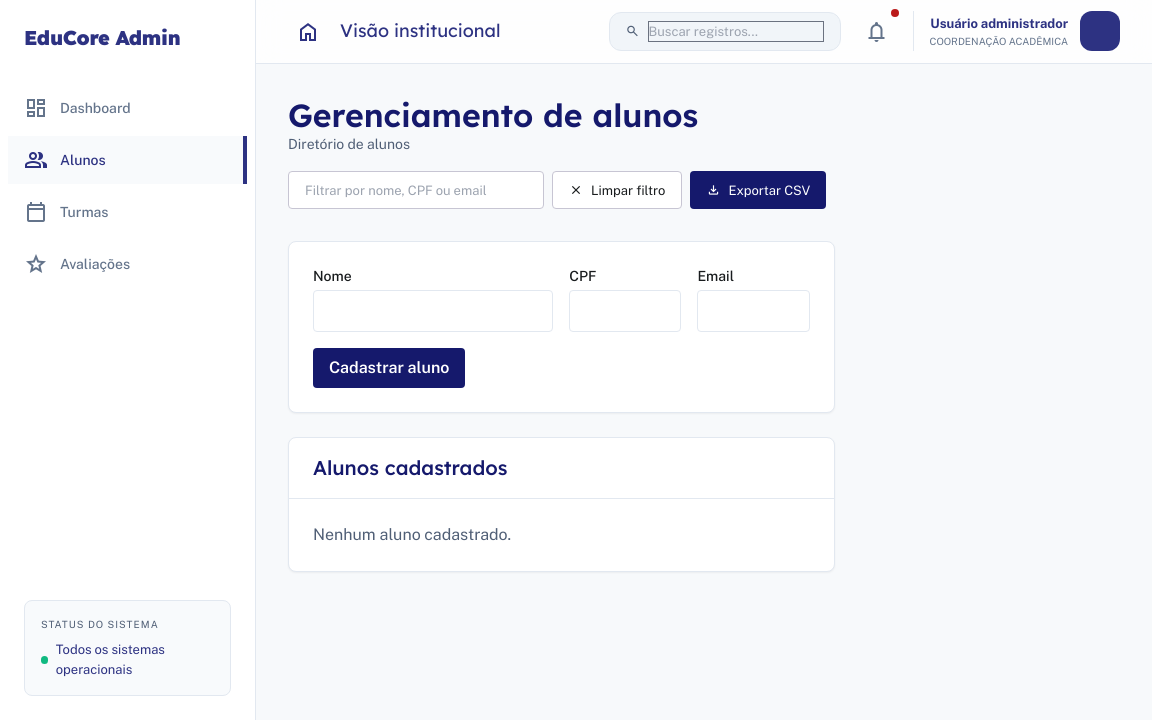
Test: Tela de alunos › cadastra aluno com sucesso e atualiza lista
Type "Ana" into the field labelled "Nome".
click(433, 311); type("Ana")  # box x1=313 y1=290 x2=553 y2=332
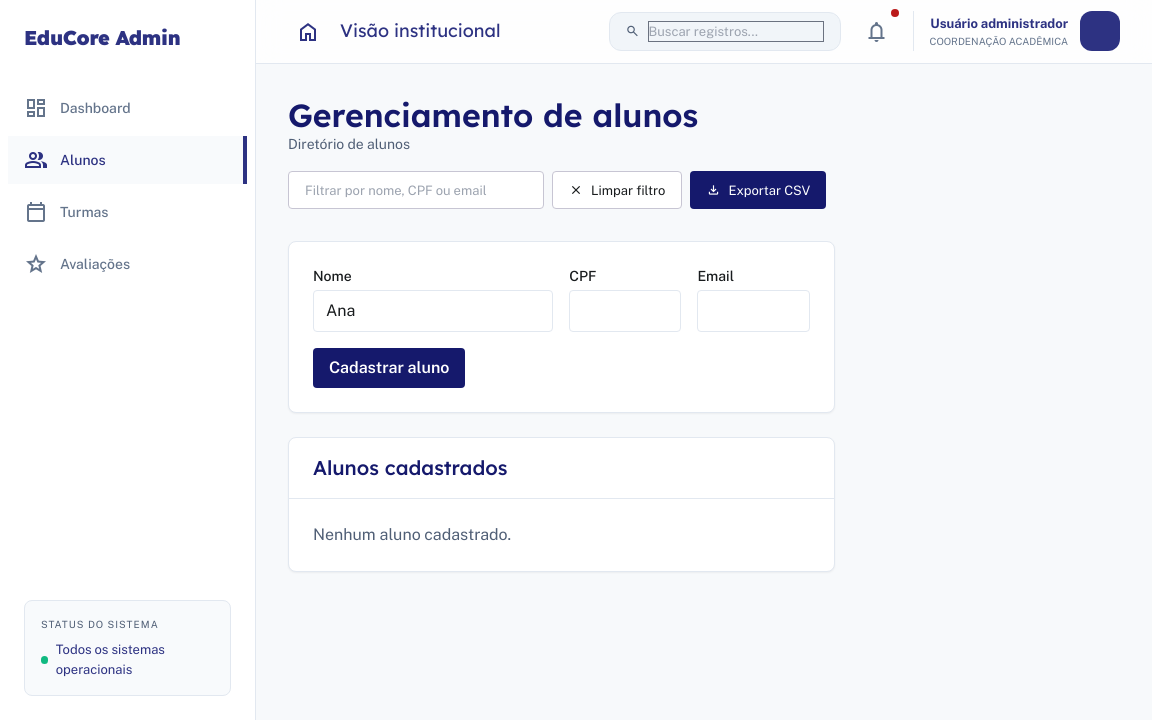
Type "12345678901" into the field labelled "CPF".
click(625, 311); type("12345678901")  # box x1=569 y1=290 x2=682 y2=332
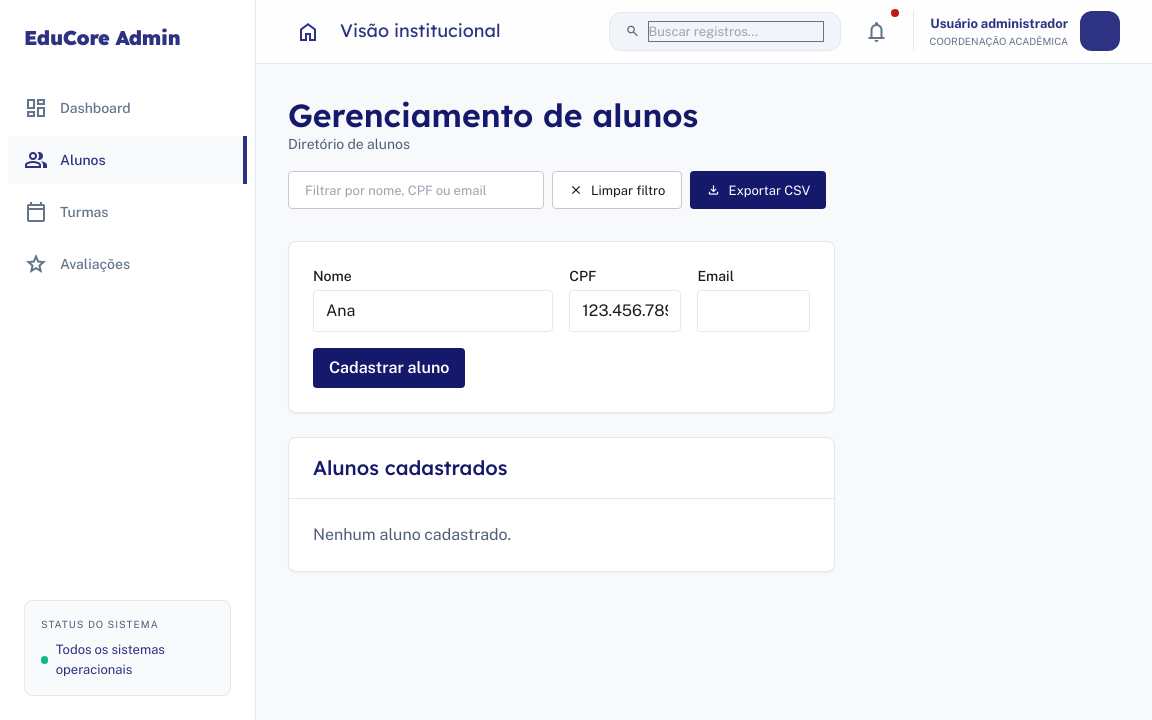
Type "ana@example.com" into the field labelled "Email".
click(754, 311); type("ana@example.com")  # box x1=698 y1=290 x2=810 y2=332
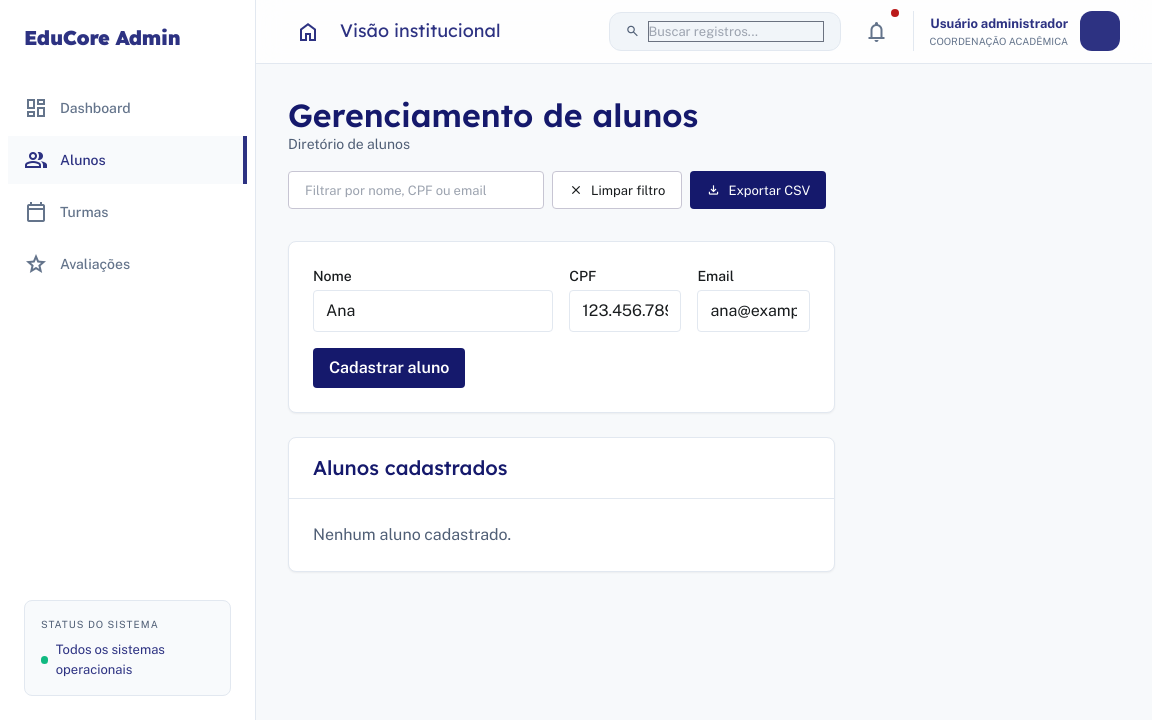
Click the button "Cadastrar aluno".
click(389, 368)  # box x1=313 y1=348 x2=465 y2=388
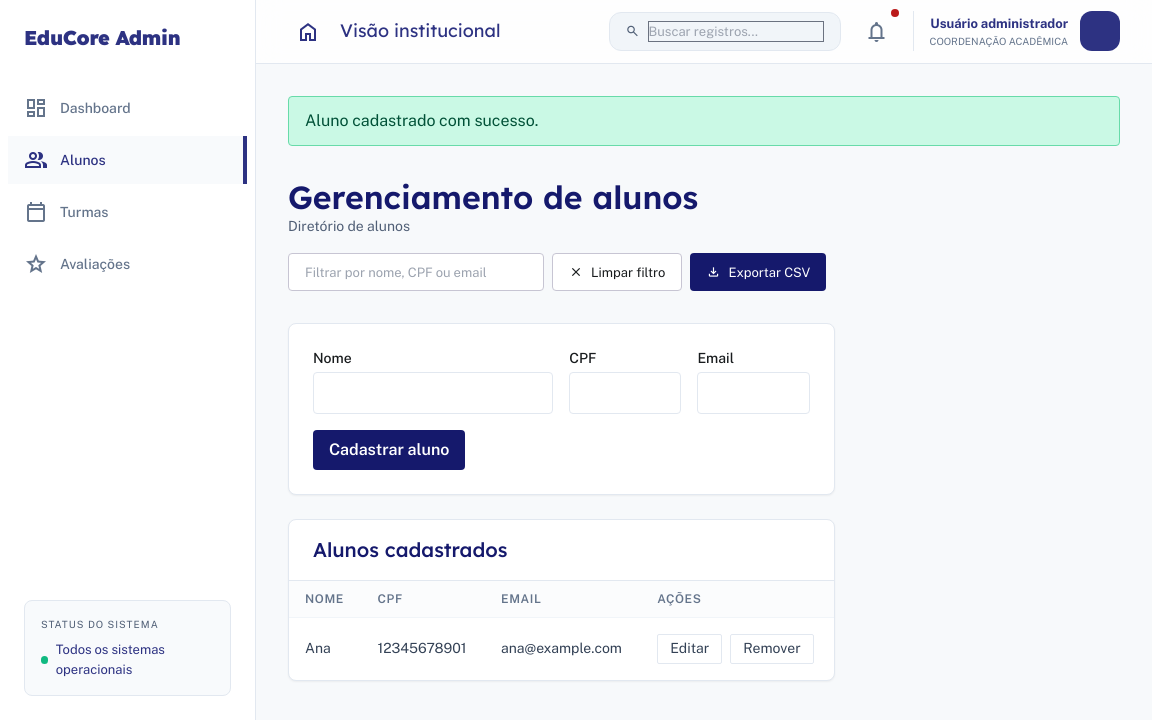
Expected: the message shows "Aluno cadastrado com sucesso", x1=305 y1=111 x2=538 y2=130
Expected: the text "Ana" is shown, x1=289 y1=618 x2=362 y2=680
